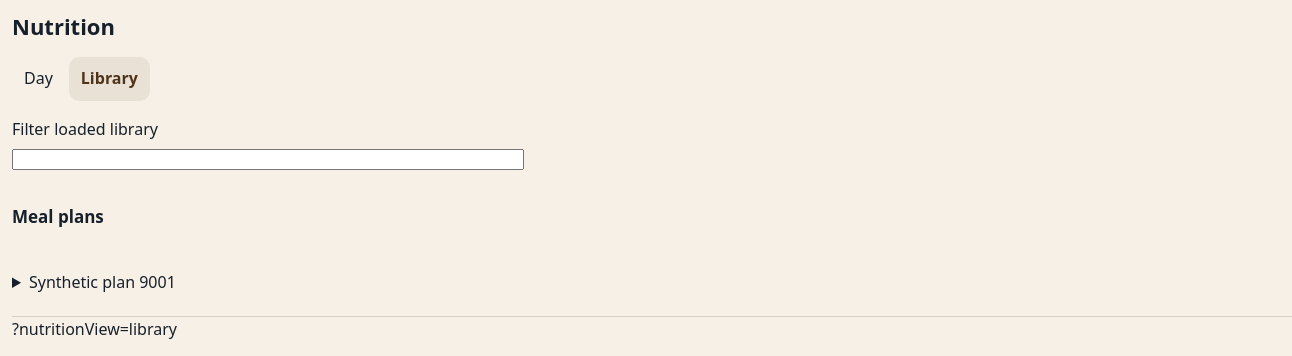
Test: Nutrition section › keeps loaded-only filtering for plan descriptions and retained item names
Expected: the heading "Synthetic plan 9001" is shown, [29,271,176,293]
In the search field: (268, 160) [12,149,524,170], type "description 9002"
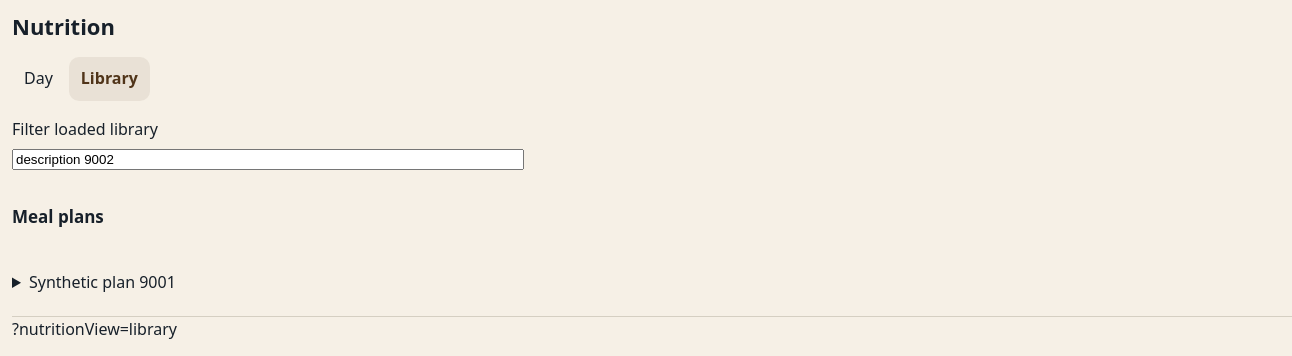
Expected: the heading "Synthetic plan 9001" is shown, [29,271,176,293]
Replace the text in the search field with "item 9003": (268, 160) [12,149,524,170]
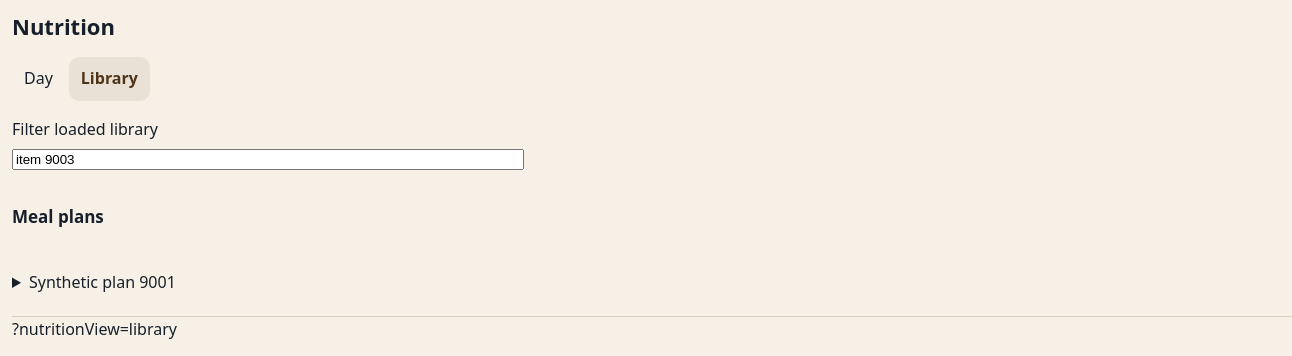
Expected: the heading "Synthetic plan 9001" is shown, [29,271,176,293]
Replace the text in the search field with "Synthetic absent 9004": (268, 160) [12,149,524,170]
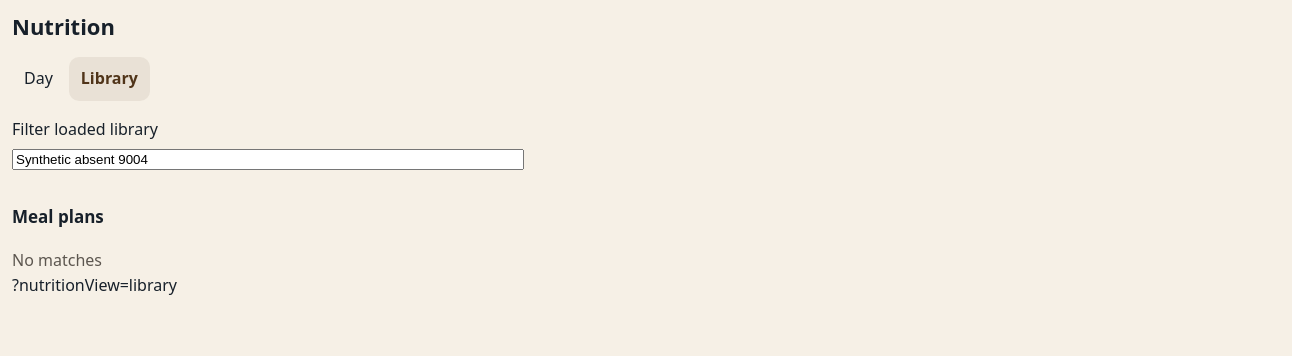
Expected: the heading "Synthetic plan 9001" is gone
